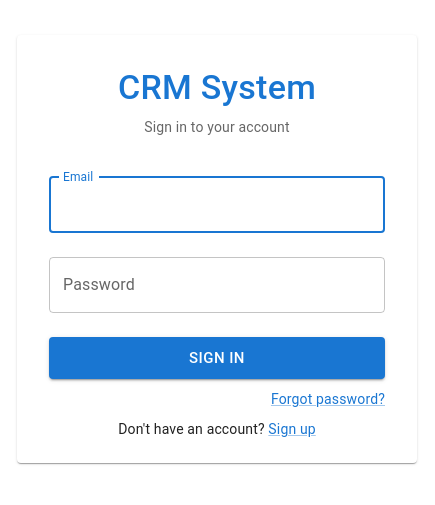
Test: LoginPage › shows validation errors for empty submit
The width and height of the screenshot is (435, 505).
Click the button "Sign In" at (217, 358), box [49, 337, 385, 379]
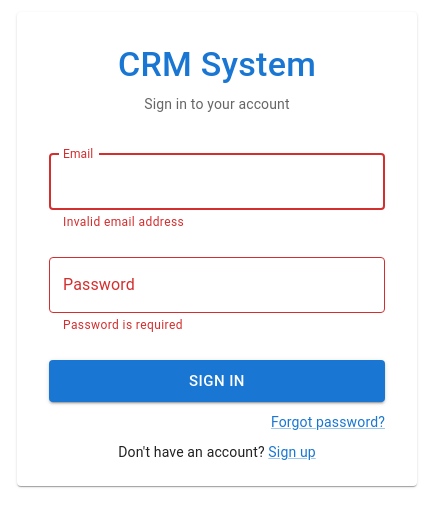
Expected: the text "Password is required" is shown, [63, 318, 183, 332]
